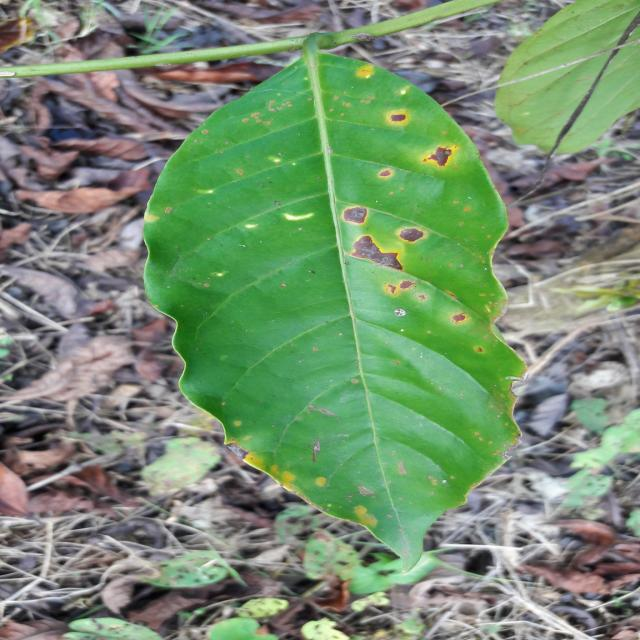Enfermedad-Roya: (142, 36, 524, 584)
